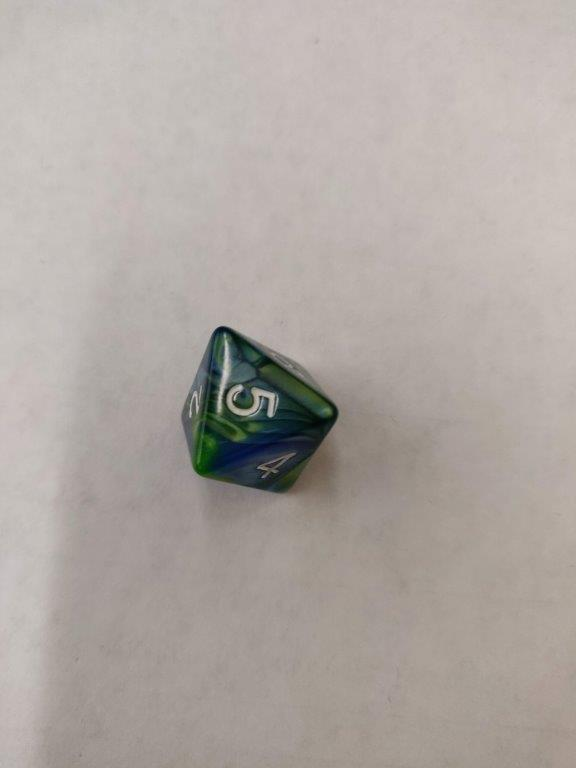d8-5: (179, 322, 341, 494)
